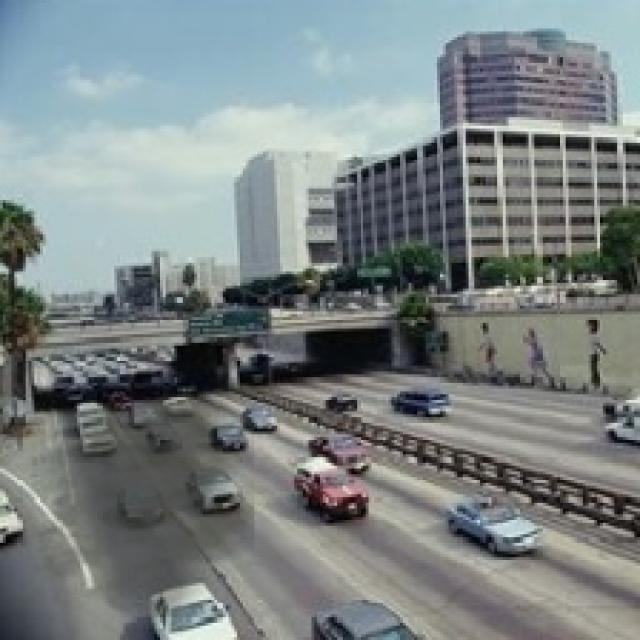smoke: (9, 380, 254, 617)
